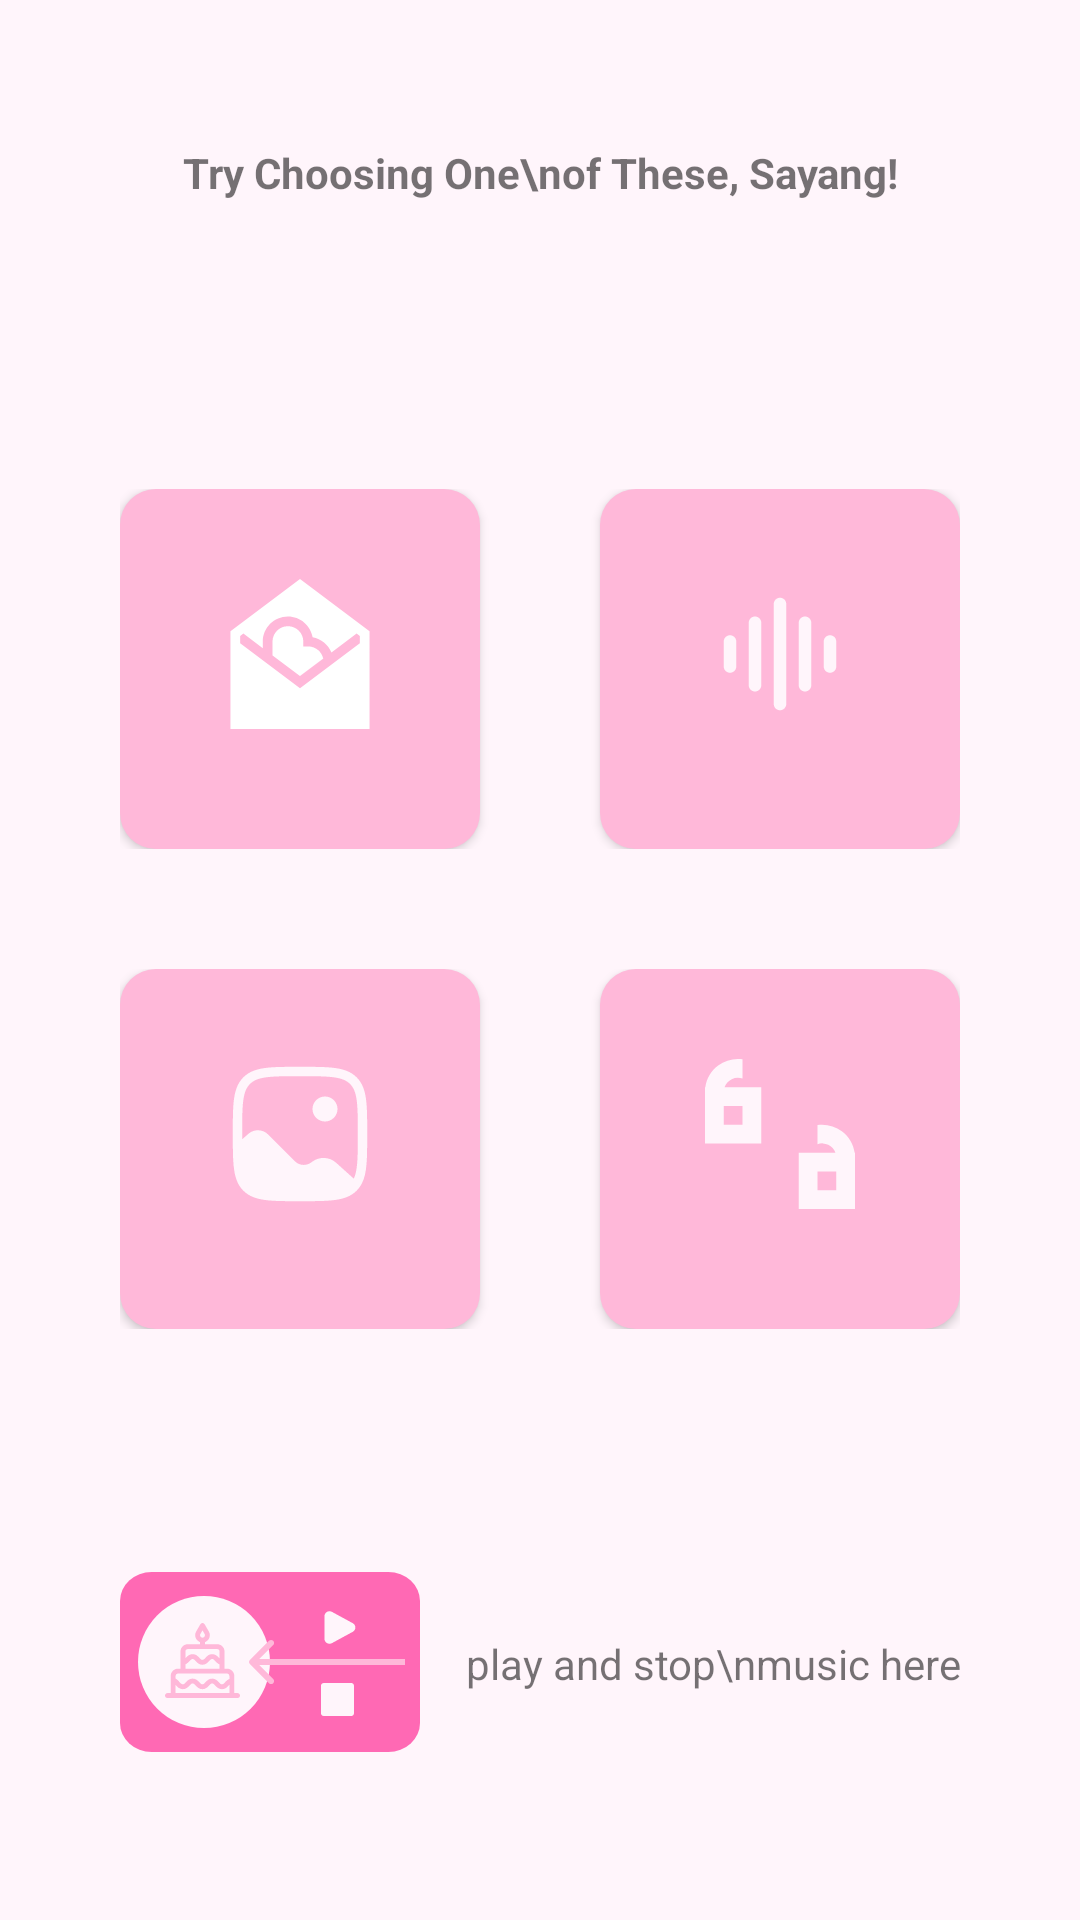

Screen size 1080 x 1920. Icon name, then its center in pixels as (x=x, y=y):
arrow: (x=327, y=1662)
play music: (x=340, y=1627)
rotating cake: (x=204, y=1662)
stop music: (x=337, y=1699)
